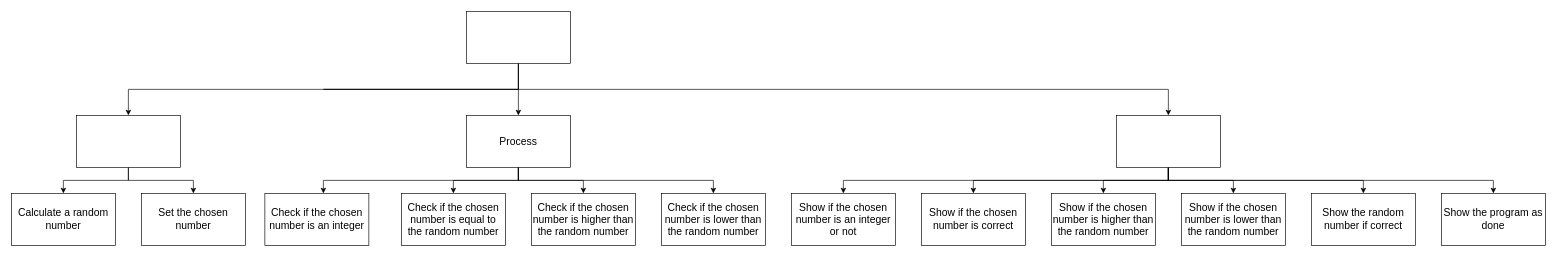
The diagram is 1557 pixels wide and 257 high, and some of its shapes have lost their labels. The shapes that lost their labels are listed below. From the top down, each one's centre as x and y in pixels, then its label:
the point at 518,37: Guessing a Hidden Number
the point at 128,141: Input
the point at 1168,141: Output
